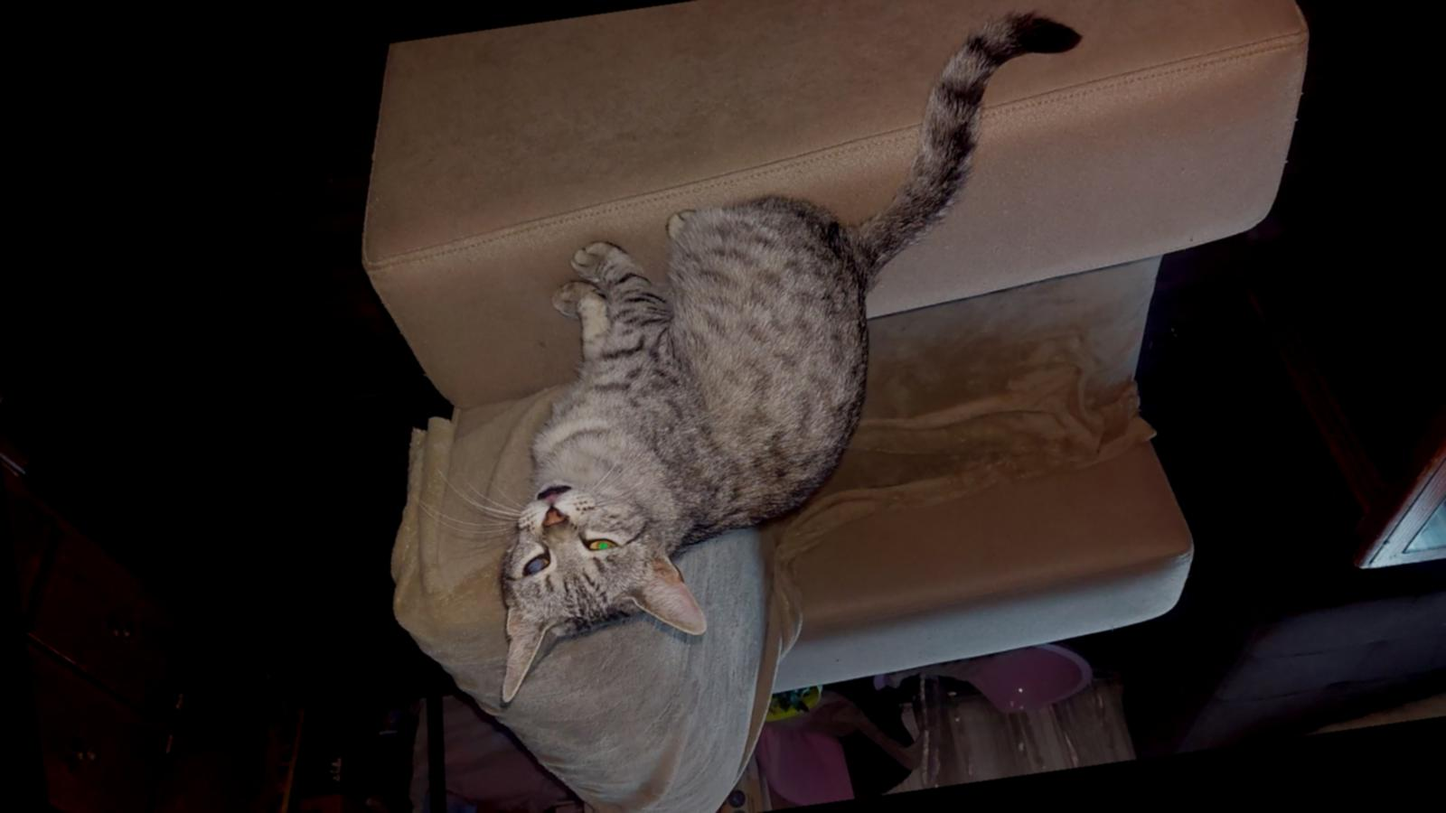macka: (416, 5, 1162, 705)
